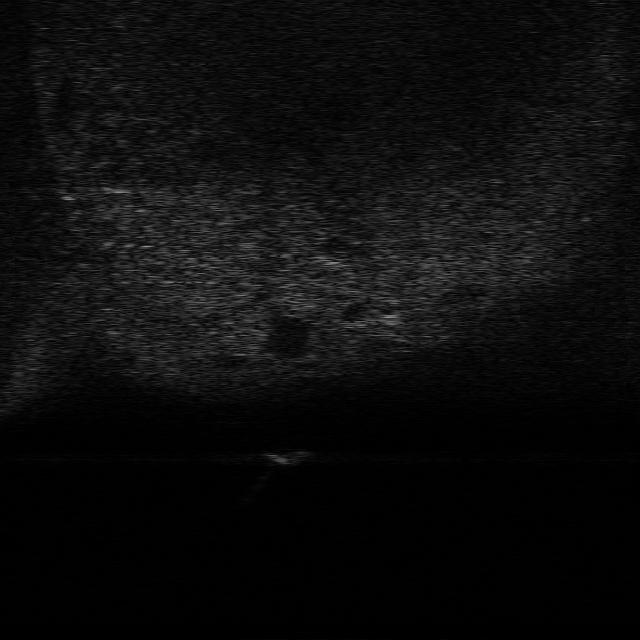cube: (266, 443, 312, 468)
